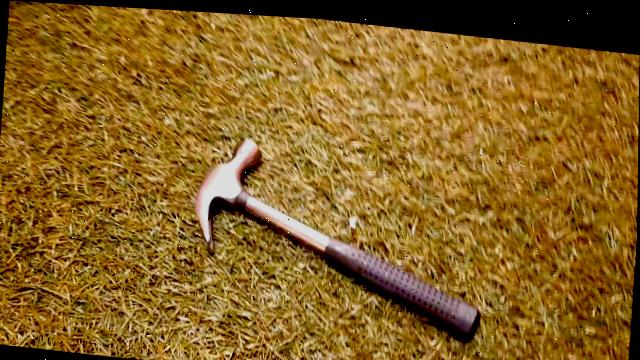hammer: (181, 123, 494, 347)
